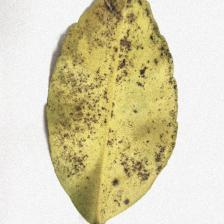canker: (67, 32, 159, 178)
